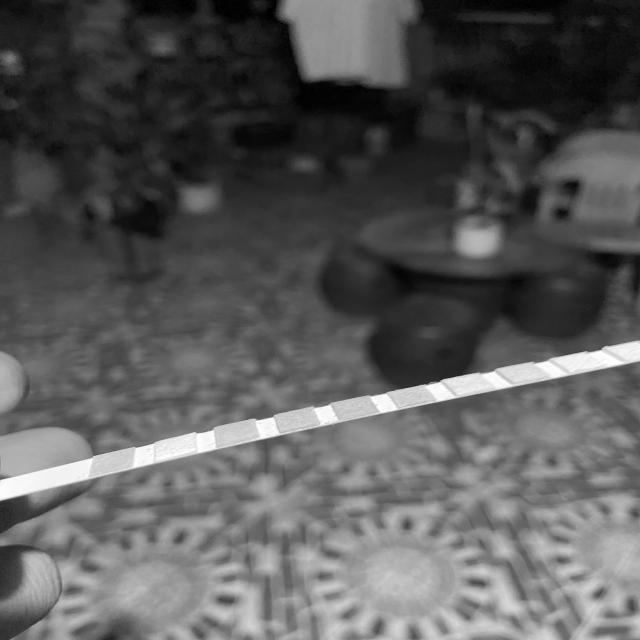Bilirubin: (155, 443, 194, 453)
Blood: (337, 401, 368, 415)
Glucose: (94, 456, 132, 467)
Ketone: (214, 428, 257, 438)
Leukocytes: (625, 343, 640, 359)
Nitrite: (570, 355, 590, 369)
Protein: (458, 377, 484, 390)
SpGravity: (275, 414, 316, 424)
Urobilinogen: (514, 365, 532, 380)
background: (0, 0, 640, 640)
pH: (399, 390, 426, 402)
strip: (0, 340, 640, 501)
